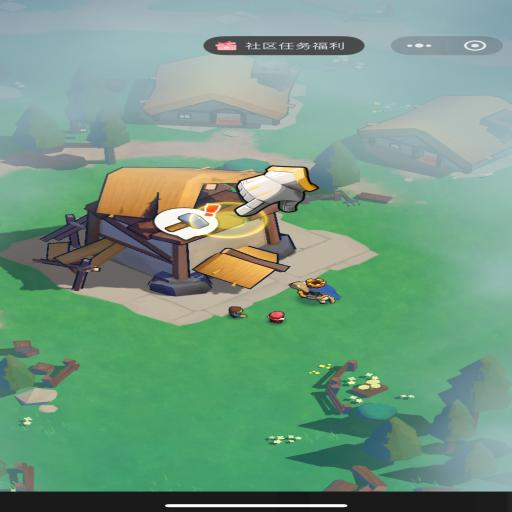newcomer_hand: (233, 166, 317, 215)
